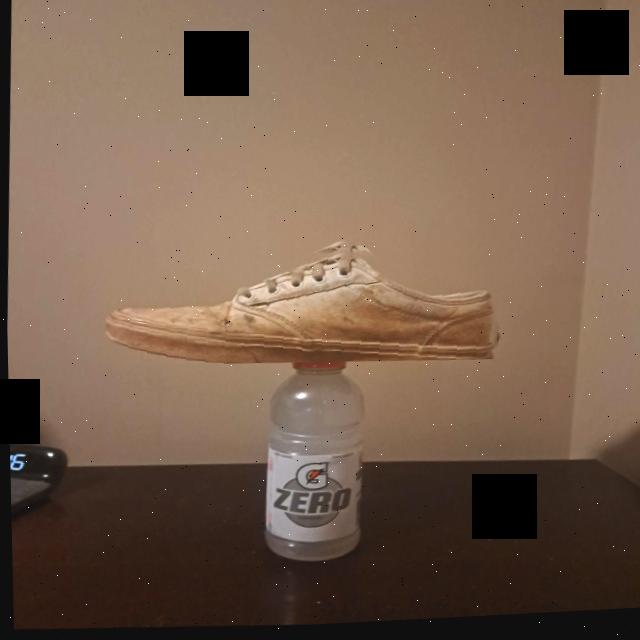shoe: (100, 226, 504, 380)
